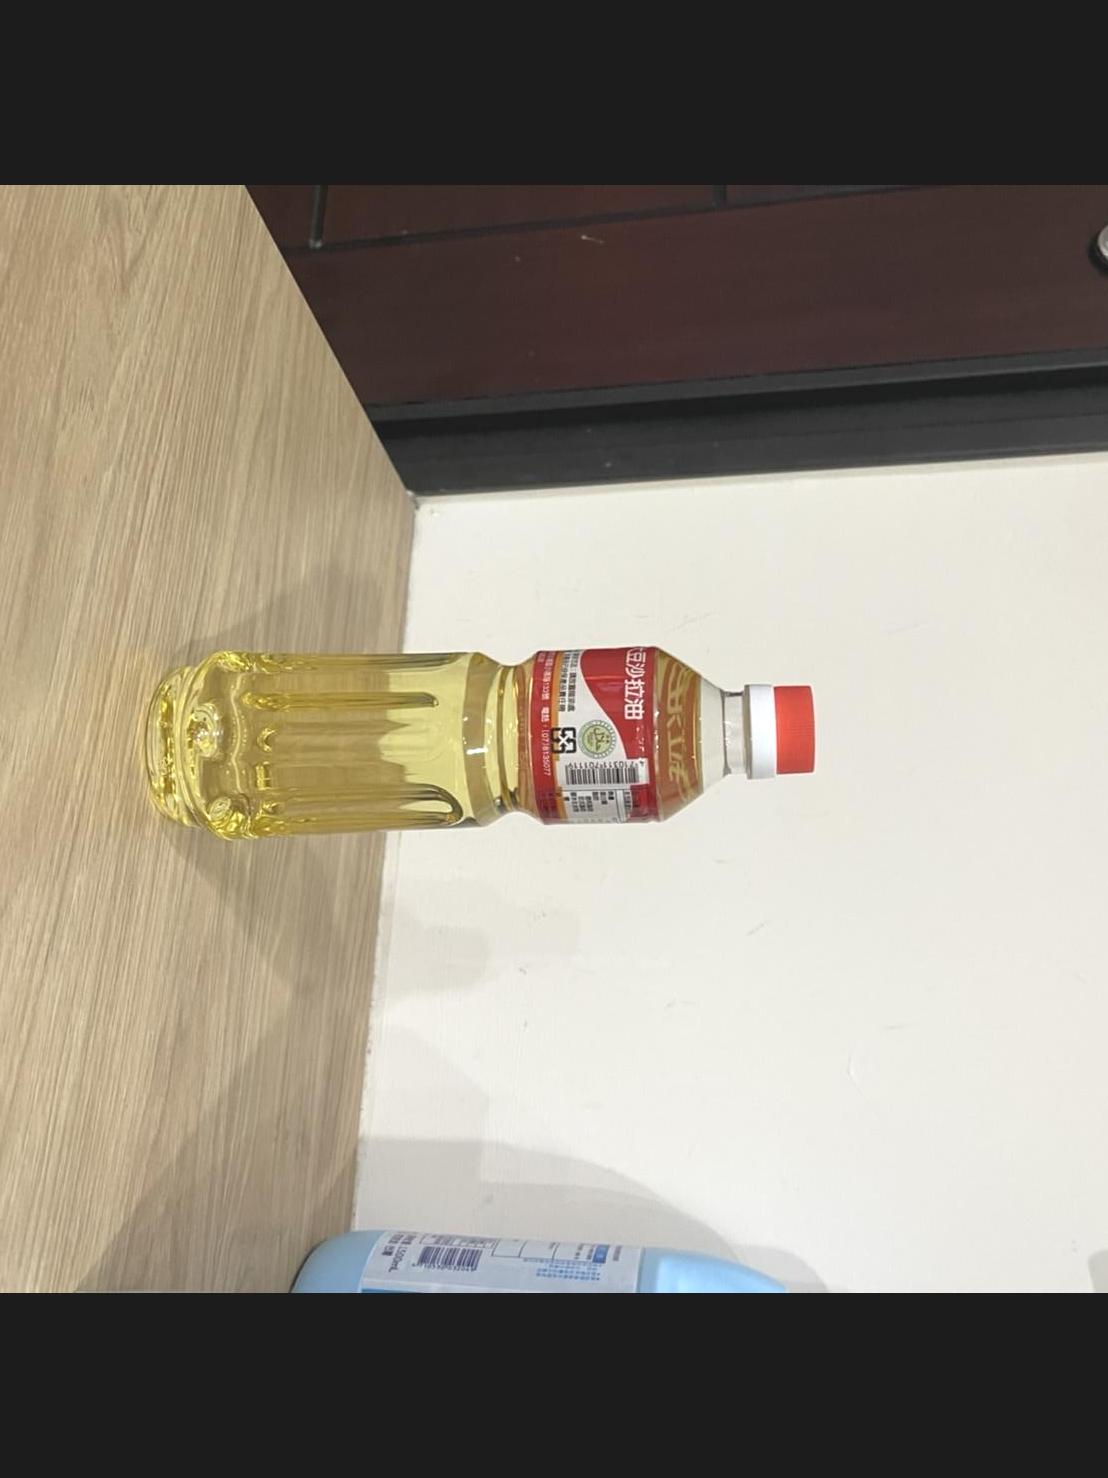bottle: (138, 639, 830, 846)
